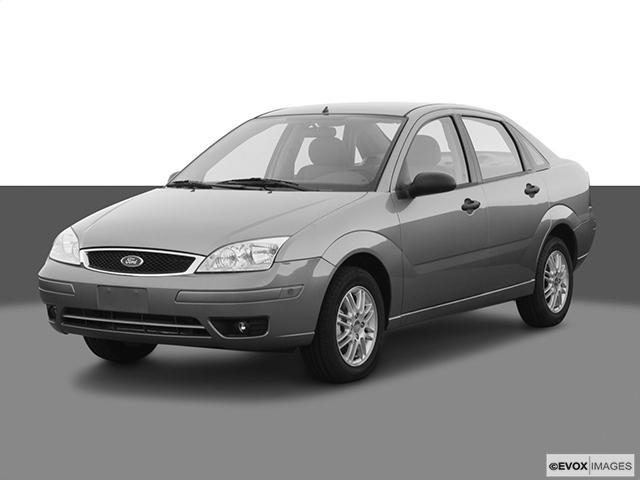car: (38, 104, 599, 385)
